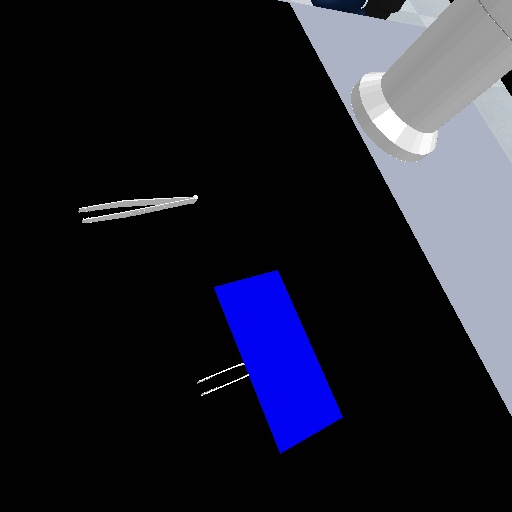pinza: (71, 185, 203, 226), (195, 359, 252, 399)
